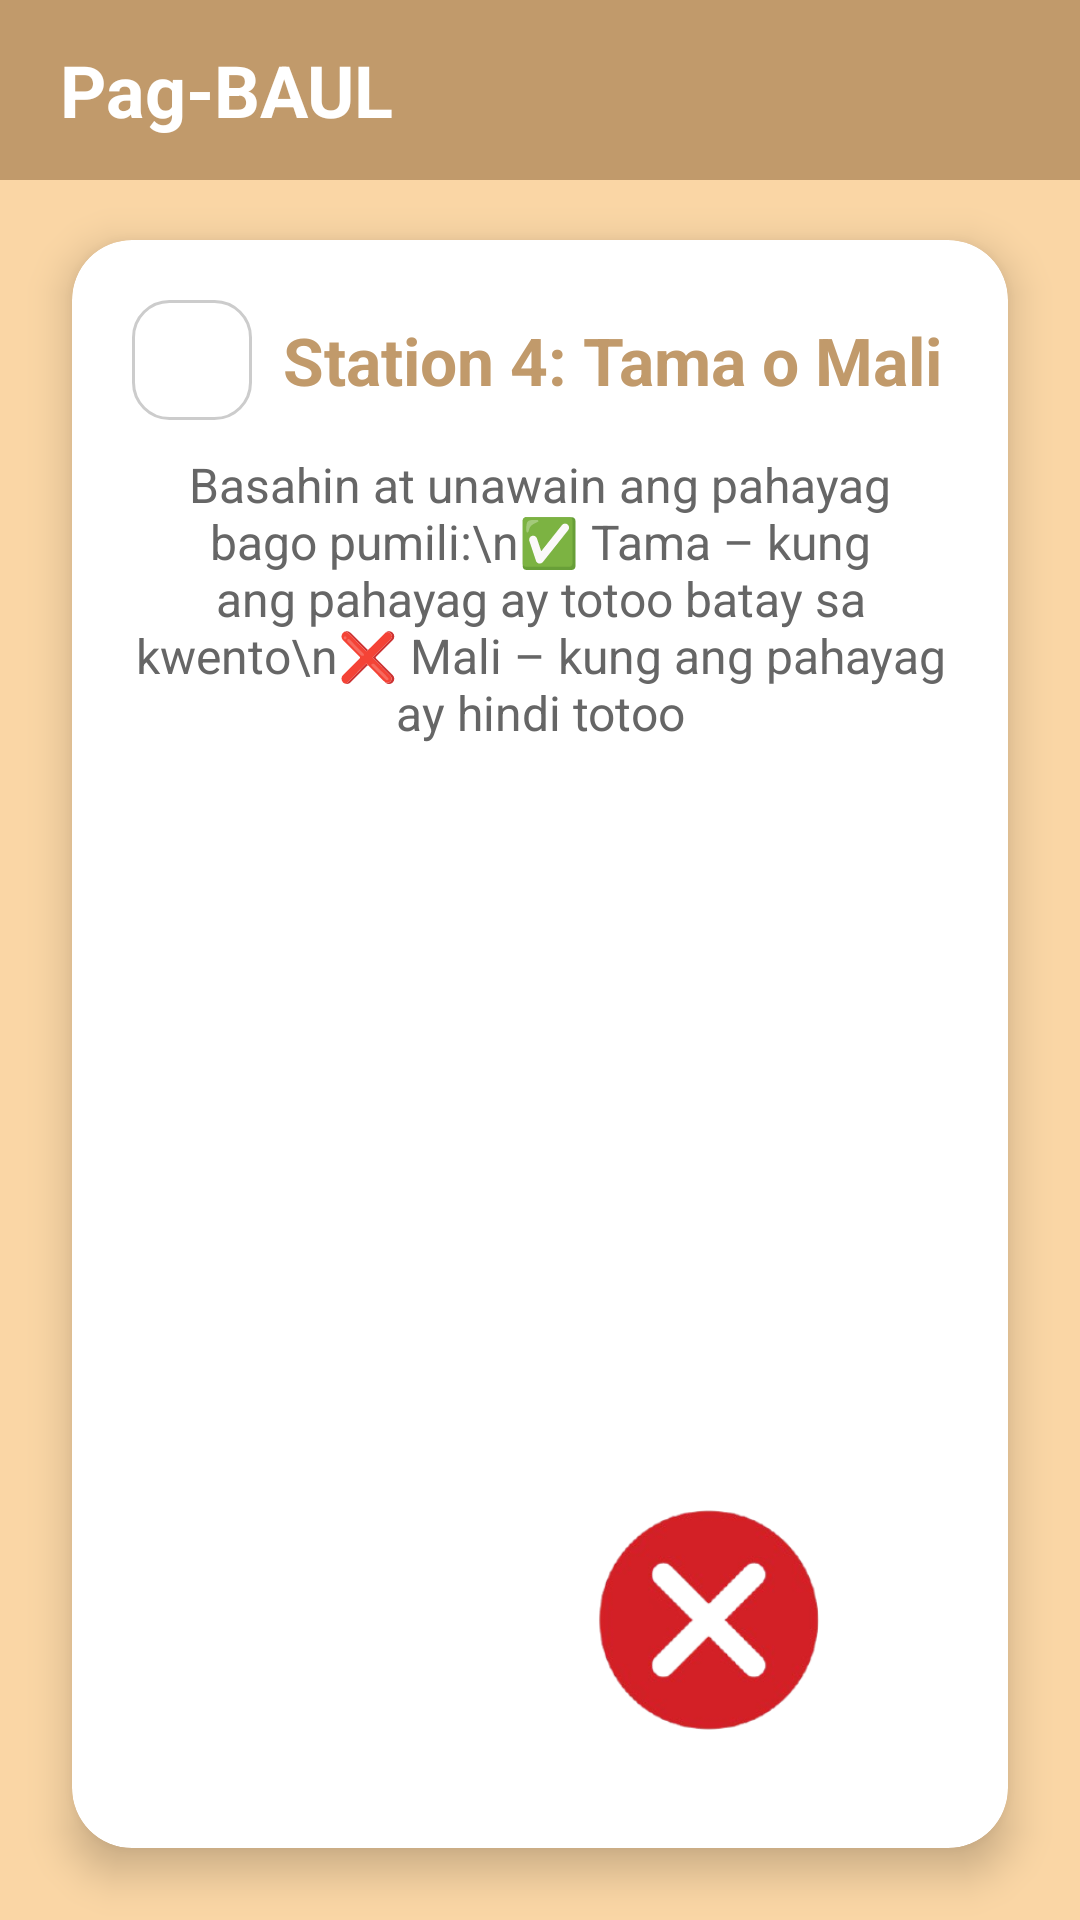

Icons on this 1080*1920 Android screen, each with its box as bbox(x1, y1, x2, y2):
mali: bbox(599, 1510, 819, 1730)
